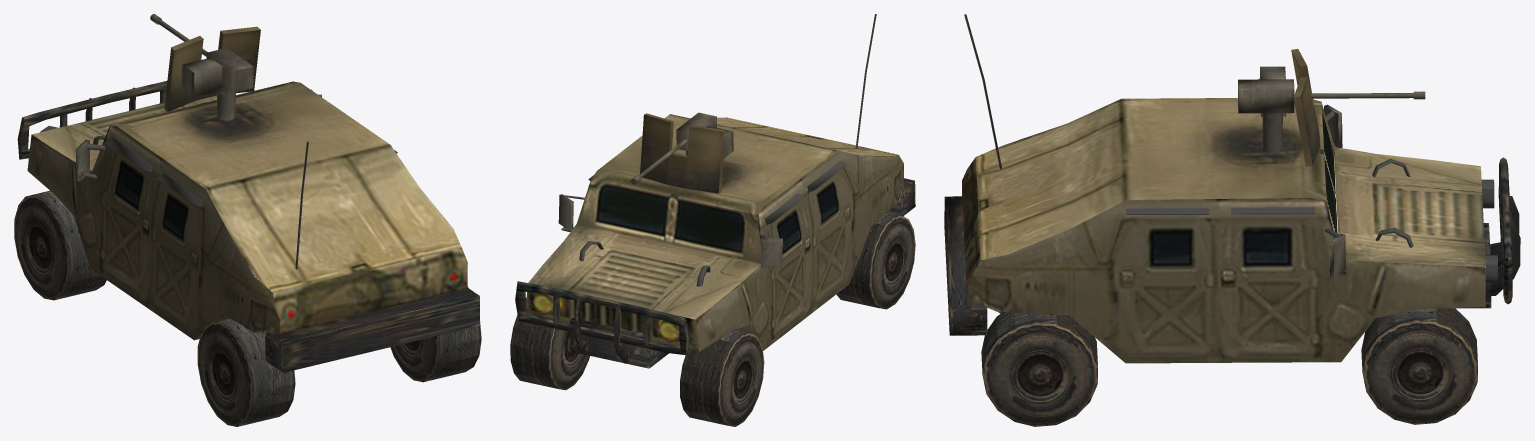
File: humvee_new.fbx
The picture shows the model from 3 angles, left to right: view 1: azimuth 30°, elevation 25°; view 2: azimuth 150°, elevation 25°; view 3: azimuth 270°, elevation 25°; orthographic projection. The views are drawn at different scales.
Visible parts, largest first — view 1: polySurfac; view 2: polySurfac; view 3: polySurfac.
Part boxes in pixels (<box>): polySurfac: <box>14,14,481,426</box>; polySurfac: <box>510,14,915,426</box>; polySurfac: <box>944,14,1520,426</box>.
Bounding box in the file's own units: 103 × 117 × 191.
